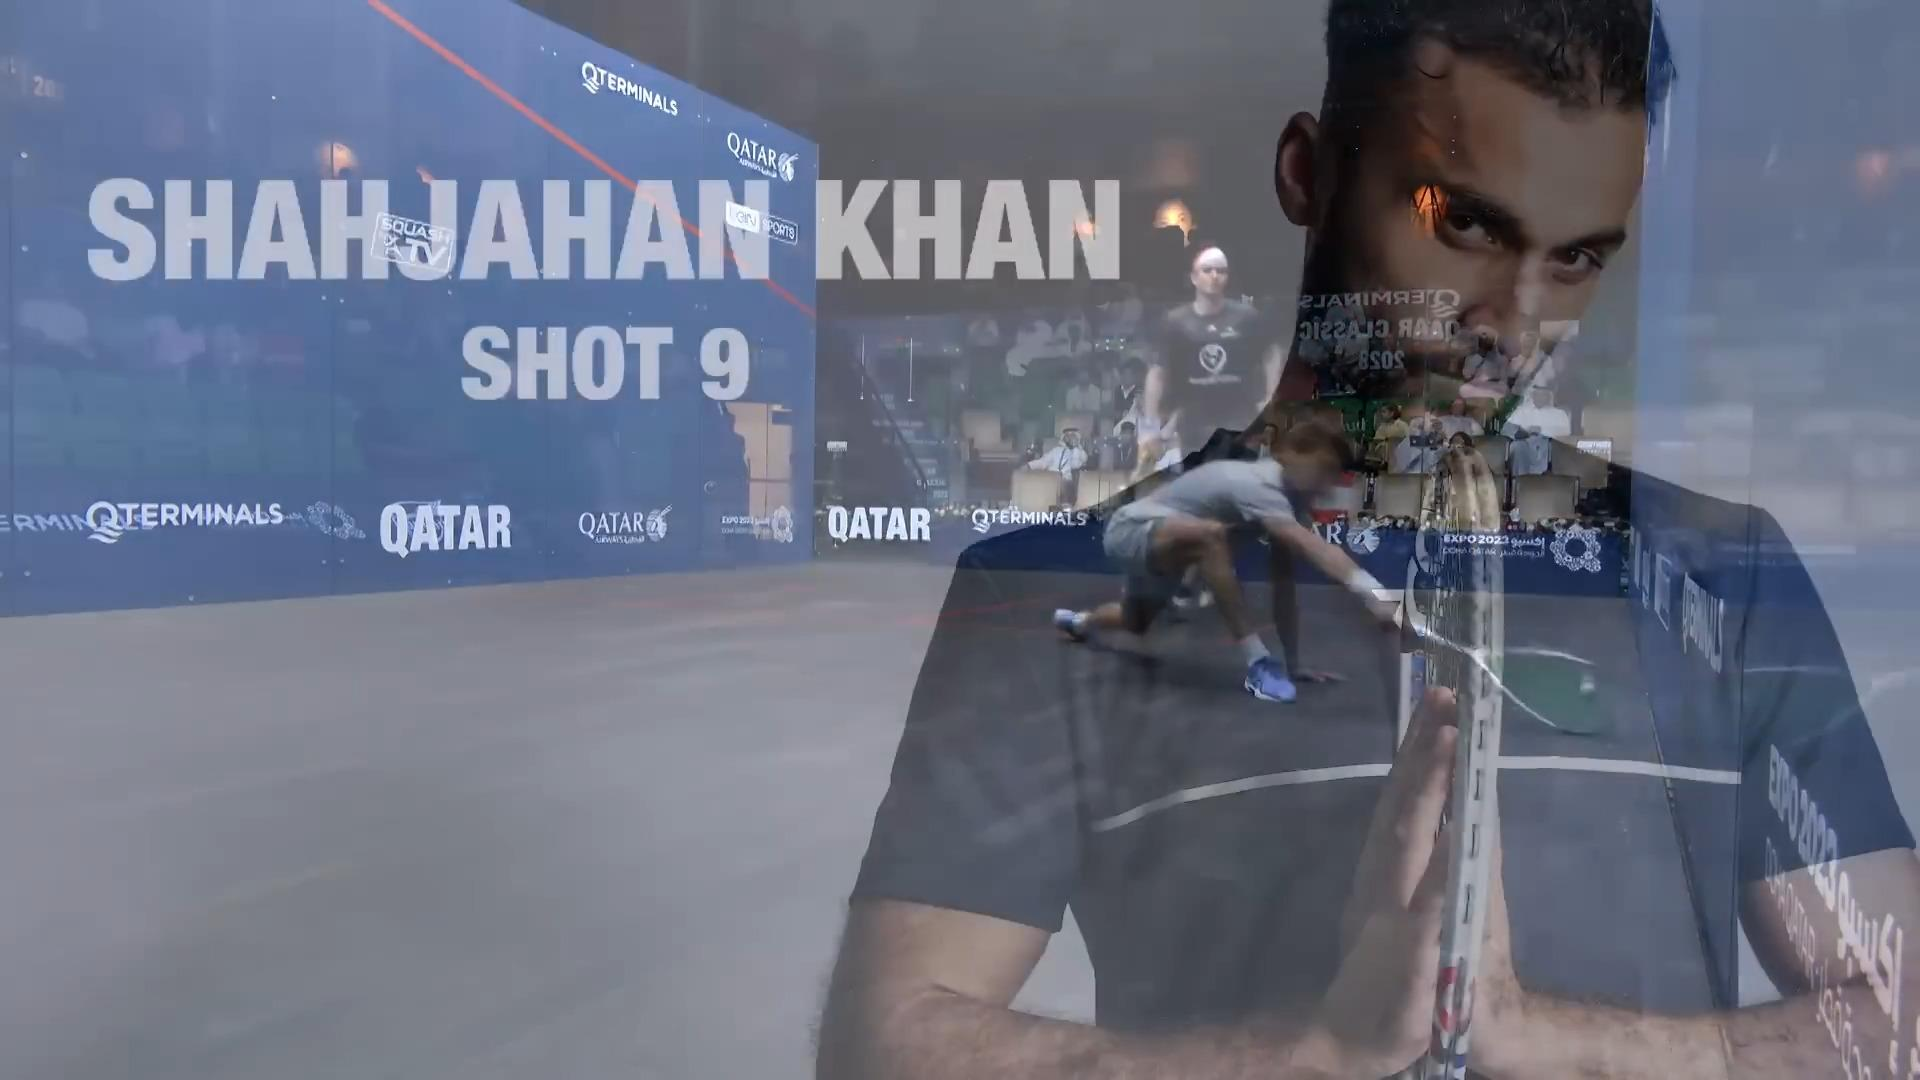Racket: (1422, 626, 1613, 740)
